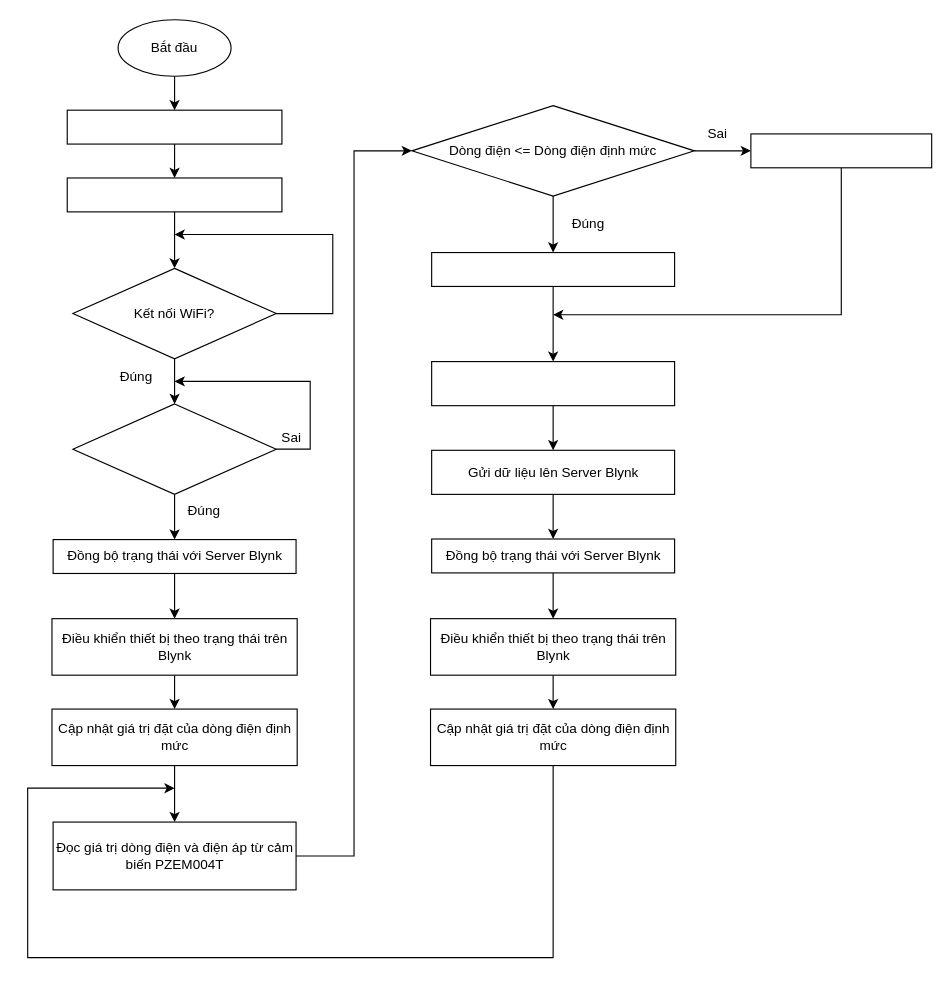
This 951x986 diagram has some shape labels left out. Here are the shapes that lost their labels. From the top down, the box of each, then its label:
(66, 109, 282, 144): Kết nối với LCD
(750, 133, 932, 168): Báo động
(66, 177, 282, 212): Kết nối với cảm biến PZEM004T
(431, 251, 675, 286): Không báo động
(431, 360, 675, 406): Hiện thị dòng điện và điện áp lên LCD
(72, 403, 276, 494): Kết nối Server Blynk?
